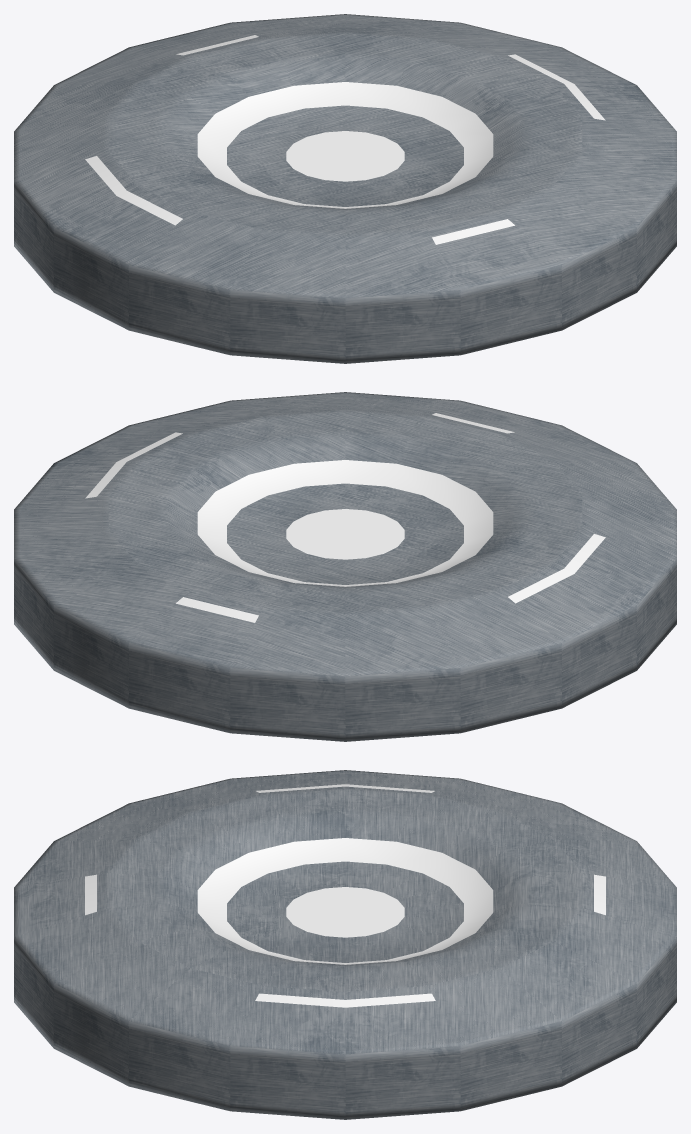
File: Sensor-Type-0-HighPoly.obj
The picture shows the model from 3 angles, top to bottom: view 1: azimuth 30°, elevation 25°; view 2: azimuth 150°, elevation 25°; view 3: azimuth 270°, elevation 25°; orthographic projection.
Visible parts, largest first — view 1: Sensor-Type-0-HighPoly; view 2: Sensor-Type-0-HighPoly; view 3: Sensor-Type-0-HighPoly.
Boxes of the visible parts, <box> form: Sensor-Type-0-HighPoly: <box>14,14,676,363</box>; Sensor-Type-0-HighPoly: <box>14,392,676,741</box>; Sensor-Type-0-HighPoly: <box>14,770,676,1119</box>.
Bounding box in the file's own units: 1.4 × 0.2 × 1.38.
